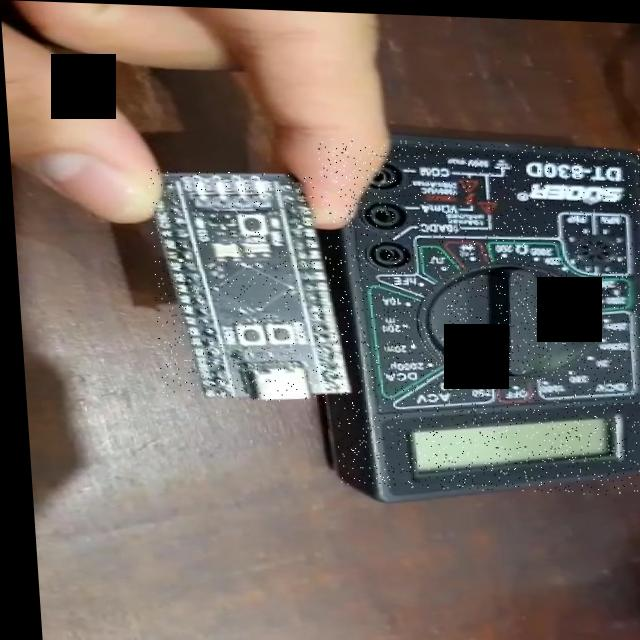multimeter: (316, 135, 640, 493)
stm32: (144, 168, 323, 401)
